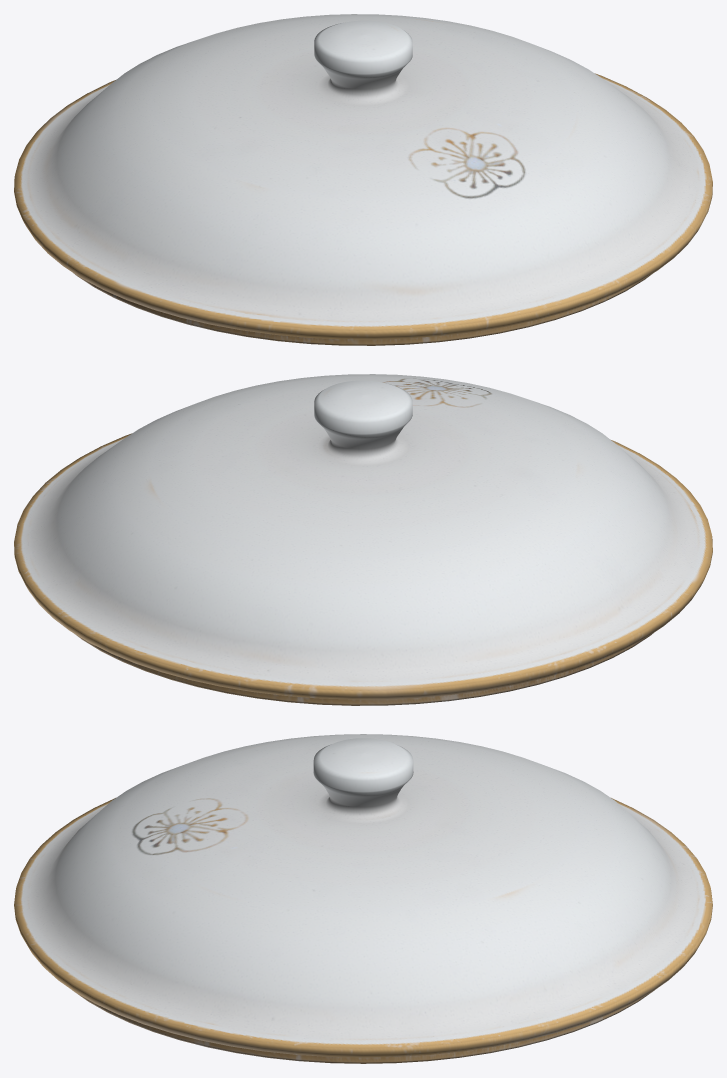
File: SM_PorcelainCoveredBowl_Cap.fbx
3 views of the same model, one above another, from view 1: azimuth 30°, elevation 25°; view 2: azimuth 150°, elevation 25°; view 3: azimuth 270°, elevation 25° (orthographic).
Parts seen in each view (by area): view 1: SM_PorcelainCoveredBowl_Cap; view 2: SM_PorcelainCoveredBowl_Cap; view 3: SM_PorcelainCoveredBowl_Cap.
Boxes of the visible parts, x1,y1,x2,y2 form: SM_PorcelainCoveredBowl_Cap: (14,14,712,345); SM_PorcelainCoveredBowl_Cap: (14,374,712,705); SM_PorcelainCoveredBowl_Cap: (14,734,712,1063).
Bounding box in the file's own units: 11.91 × 3.21 × 11.91.
Materials: 1 (1 with a texture image).
